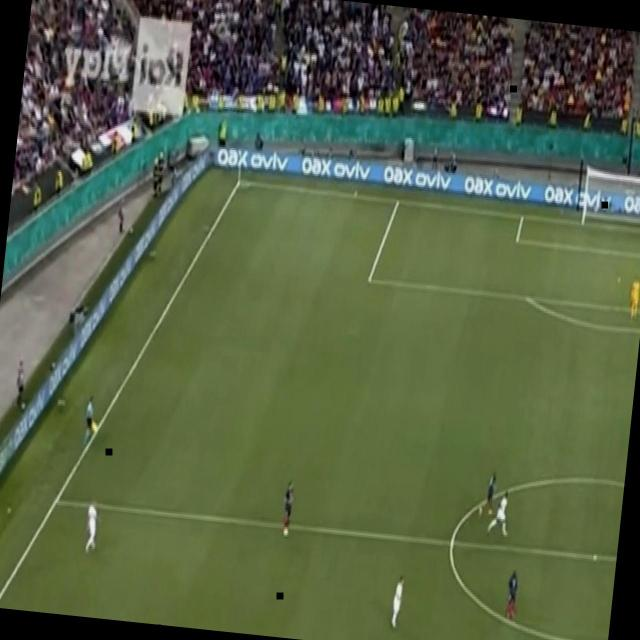player-white: (484, 483, 515, 542), (81, 489, 103, 558), (477, 466, 503, 524), (387, 570, 407, 637), (502, 566, 523, 622), (279, 478, 297, 540), (81, 391, 98, 446), (626, 272, 640, 324)
